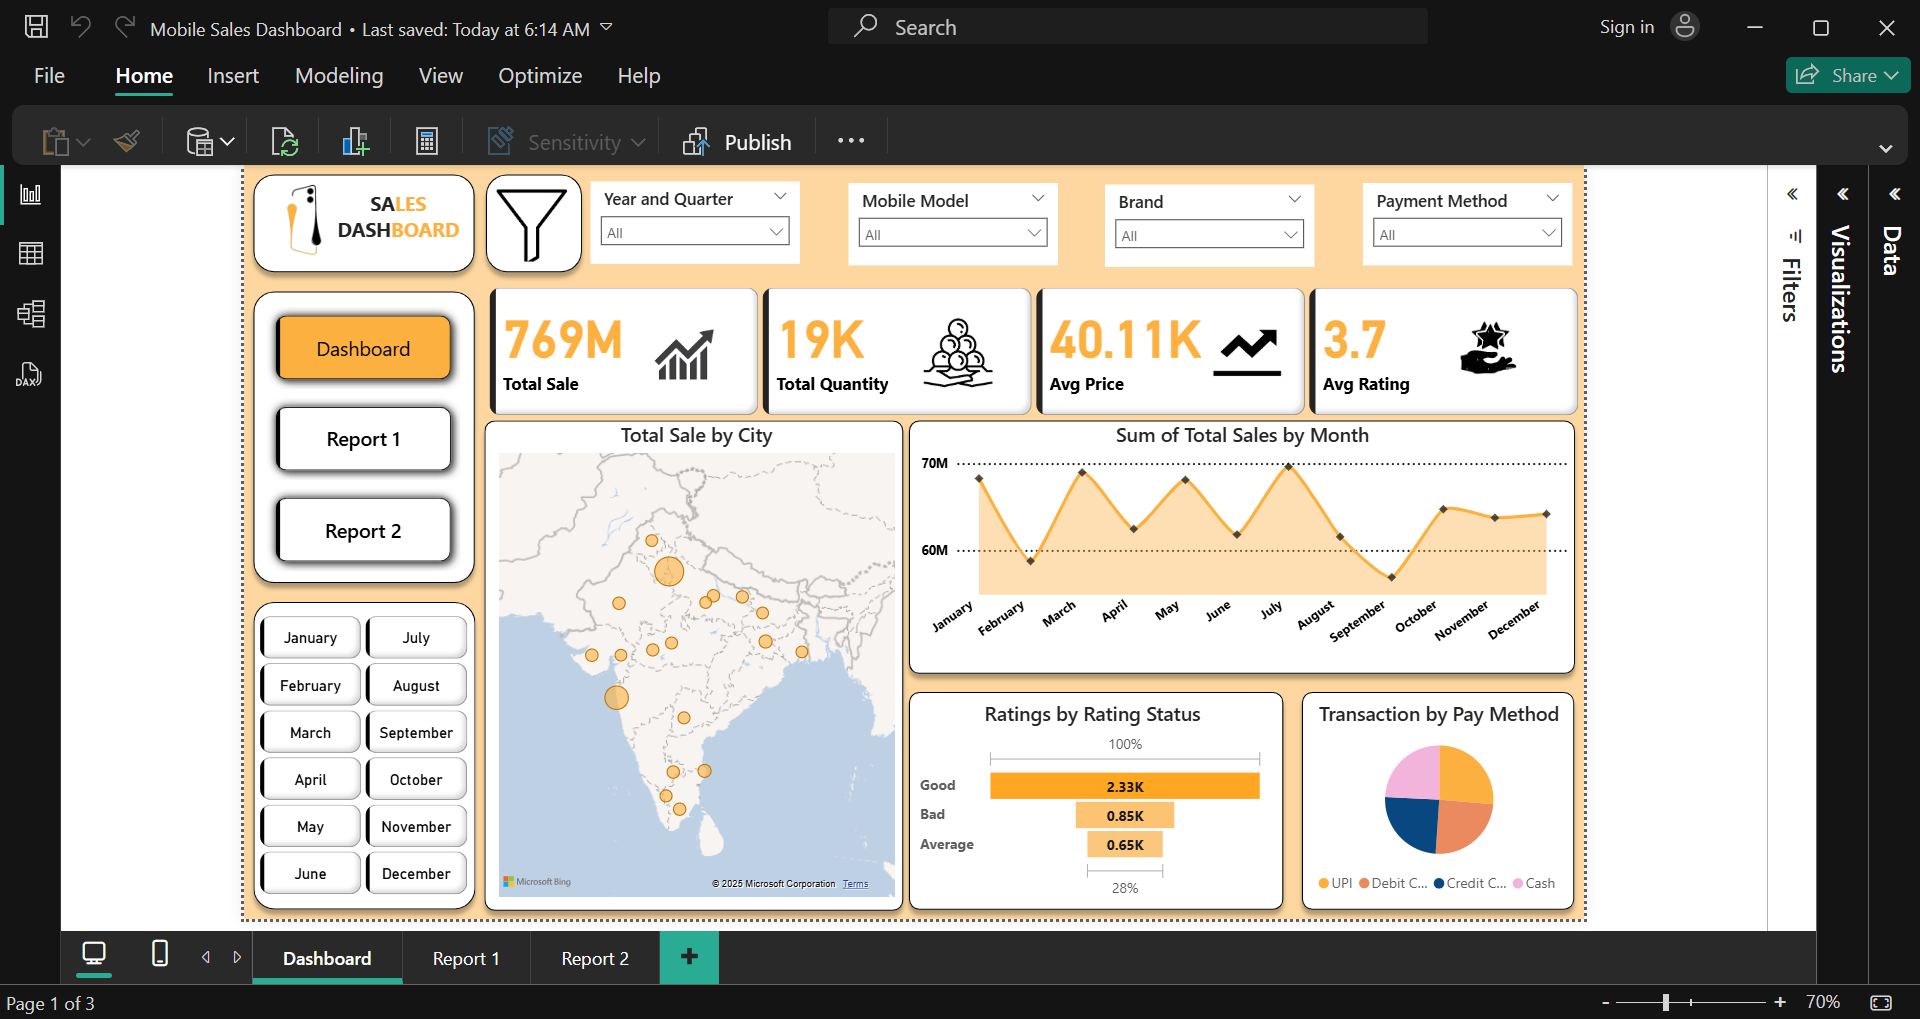

The page's visual inventory and layout, read from the dashboard file:
{"tool":"powerbi","page":{"name":"Dashboard","canvas":[1280,720],"ordinal":0},"visuals":[{"type":"shape","box":[0,0,229.5,111.5],"z":0},{"type":"slicer","fields":{"Values":["Sales Data.Mobile Model"]},"box":[577,18,200,78.7],"z":0,"group":"g1"},{"type":"slicer","fields":{"Values":["Sales Data.Brand"]},"box":[822.9,19.7,200,78.7],"z":1000,"group":"g1"},{"type":"shape","box":[0,408.3,230,311.7],"z":1000},{"type":"slicer","fields":{"Values":["Sales Data.Payment Method"]},"box":[1068.8,18,200,78.7],"z":2000,"group":"g1"},{"type":"advancedSlicerVisual","fields":{"Values":["Custom Calendar.Date.Variation.Date Hierarchy.Month"]},"box":[10,425,208.3,280],"z":2000},{"type":"slicer","fields":{"Values":["Custom Calendar.Date.Variation.Date Hierarchy.Year","Custom Calendar.Date.Variation.Date Hierarchy.Quarter"]},"box":[331.1,16.4,200,78.7],"z":3000,"group":"g1"},{"type":"shape","box":[0,111.5,229.5,296.7],"z":3000},{"type":"cardVisual","fields":{"Data":["Sales Data.Total Sale","Sales Data.Total Quantity","Sales Data.Avg Price","Sales Data.Avg Rating"]},"box":[229.5,111.5,1050.8,132.8],"z":4000},{"type":"image","box":[0,1.6,114.8,109.8],"z":5000},{"type":"image","box":[352.5,134.4,136.1,91.8],"z":6000},{"type":"image","box":[621.3,139.3,121.3,80.3],"z":7000},{"type":"image","box":[1118,127.9,139.3,104.9],"z":8000},{"type":"image","box":[891.8,139.3,131.1,80.3],"z":9000},{"type":"textbox","box":[63.9,18,165.6,73.8],"z":10000},{"type":"group","id":"g1","title":"Group 1","box":[331.1,16.4,937.7,82],"z":11000},{"type":"shape","box":[221.3,0,109.8,111.5],"z":12000},{"type":"image","box":[219.7,13.1,111.5,93.4],"z":13000},{"type":"shape","box":[221.2,234.2,418,486.3],"z":14000},{"type":"map","fields":{"Category":["Sales Data.City"],"Size":["Sales Data.Total Sale"]},"box":[237.5,245.6,388.7,458.7],"z":15000},{"type":"shape","box":[626.2,234.2,653.9,260.2],"z":16000},{"type":"lineChart","fields":{"Category":["Custom Calendar.Date.Variation.Date Hierarchy.Month"],"Y":["Sum(Sales Data.Total Sales)"]},"box":[639.2,245.6,629.5,232.6],"z":17000},{"type":"shape","box":[626.2,494.5,375.7,226.1],"z":18000},{"type":"funnel","title":"Ratings by Rating Status","fields":{"Y":["CountNonNull(Sales Data.Customer Ratings)"],"Category":["Sales Data.Rating Status"]},"box":[640.9,510.7,339.9,193.6],"z":19000},{"type":"shape","box":[1002,494.5,278.1,226.1],"z":20000},{"type":"pieChart","title":"Transaction by Pay Method","fields":{"Category":["Sales Data.Payment Method"],"Y":["Sales Data.Total Transcation"]},"box":[1018.2,510.7,245.6,193.6],"z":21000},{"type":"pageNavigator","box":[21.1,135,185.4,255.4],"z":22000}]}

Visuals, with their boxes on the page's 1280x720 design canvas (x1, y1, x2, y2). These are canvas units, not pixel positions in the 1920x1019 screenshot, which may show the page scaled, cropped or inside an application window:
shape: (left=0, top=0, right=230, bottom=112)
slicer - Sales Data.Mobile Model: (left=577, top=18, right=777, bottom=97)
slicer - Sales Data.Brand: (left=823, top=20, right=1023, bottom=98)
shape: (left=0, top=408, right=230, bottom=720)
slicer - Sales Data.Payment Method: (left=1069, top=18, right=1269, bottom=97)
advancedSlicerVisual - Custom Calendar.Date.Variation.Date Hierarchy.Month: (left=10, top=425, right=218, bottom=705)
slicer - Custom Calendar.Date.Variation.Date Hierarchy.Year x Custom Calendar.Date.Variation.Date Hierarchy.Quarter: (left=331, top=16, right=531, bottom=95)
shape: (left=0, top=112, right=230, bottom=408)
cardVisual - Sales Data.Total Sale x Sales Data.Total Quantity: (left=230, top=112, right=1280, bottom=244)
image: (left=0, top=2, right=115, bottom=111)
image: (left=352, top=134, right=489, bottom=226)
image: (left=621, top=139, right=743, bottom=220)
image: (left=1118, top=128, right=1257, bottom=233)
image: (left=892, top=139, right=1023, bottom=220)
textbox: (left=64, top=18, right=230, bottom=92)
"Group 1" group: (left=331, top=16, right=1269, bottom=98)
shape: (left=221, top=0, right=331, bottom=112)
image: (left=220, top=13, right=331, bottom=106)
shape: (left=221, top=234, right=639, bottom=720)
map - Sales Data.City x Sales Data.Total Sale: (left=238, top=246, right=626, bottom=704)
shape: (left=626, top=234, right=1280, bottom=494)
lineChart - Custom Calendar.Date.Variation.Date Hierarchy.Month x Sum(Sales Data.Total Sales): (left=639, top=246, right=1269, bottom=478)
shape: (left=626, top=494, right=1002, bottom=721)
"Ratings by Rating Status" funnel: (left=641, top=511, right=981, bottom=704)
shape: (left=1002, top=494, right=1280, bottom=721)
"Transaction by Pay Method" pieChart: (left=1018, top=511, right=1264, bottom=704)
pageNavigator: (left=21, top=135, right=206, bottom=390)
